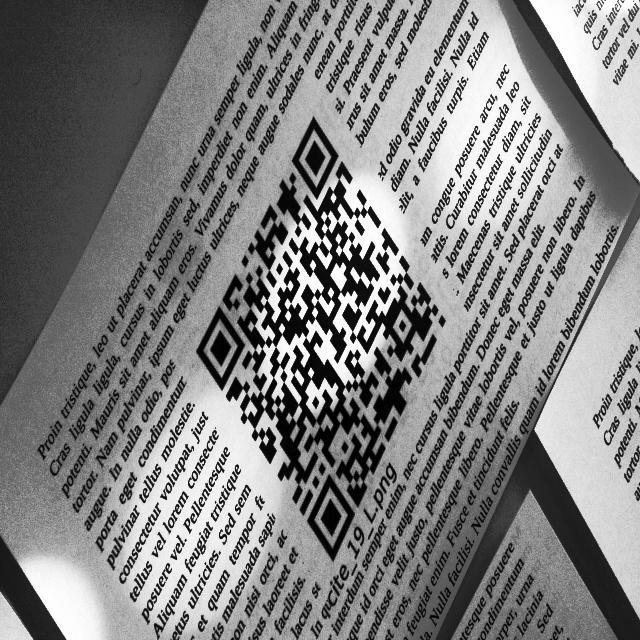qr_code: (197, 116, 447, 563)
